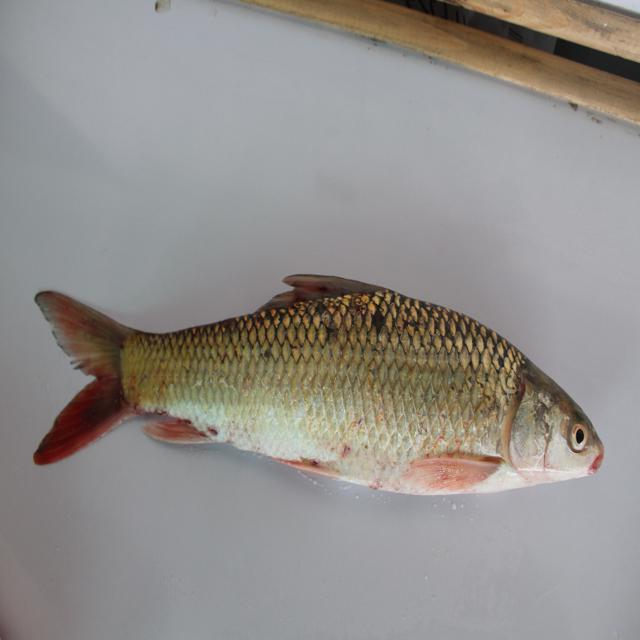Grass Carp: (30, 266, 597, 502)
